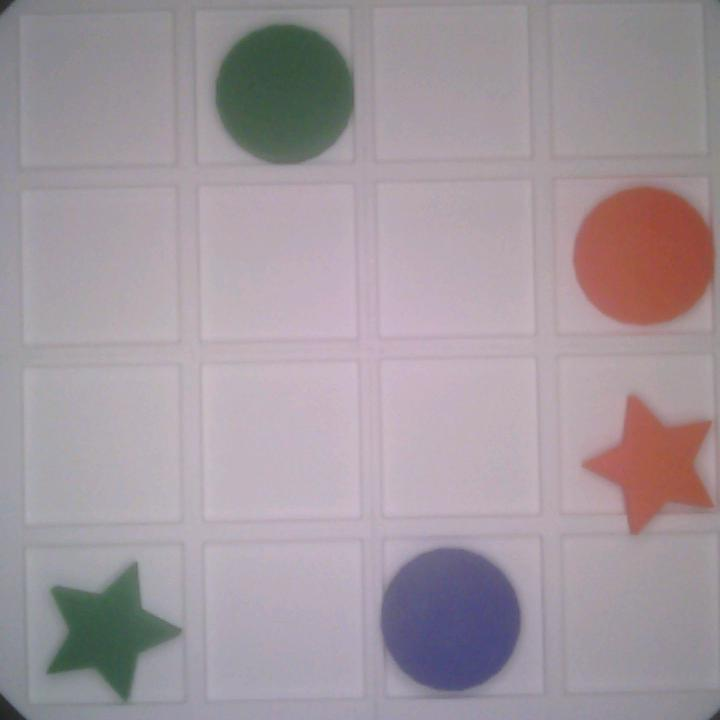Blue circle: (378, 547, 522, 695)
Green circle: (215, 24, 357, 166)
Green star: (42, 560, 186, 702)
Orange circle: (573, 185, 716, 330)
Orange star: (579, 386, 716, 532)
